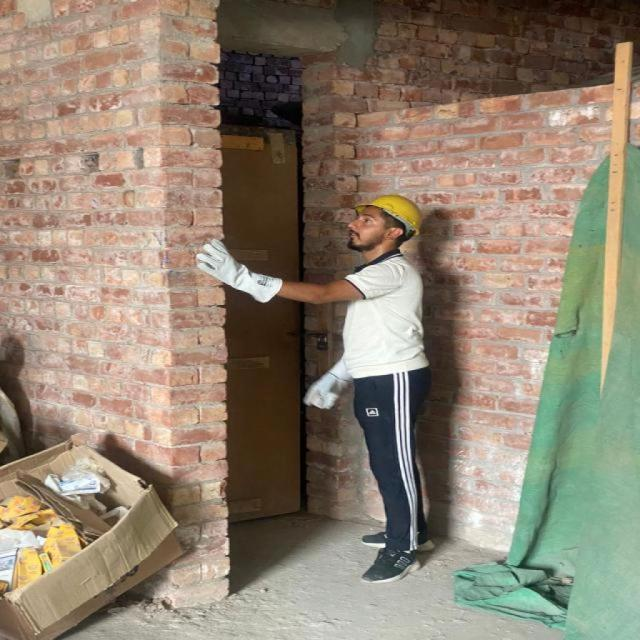Gloves-Detection: (188, 232, 291, 304), (303, 342, 349, 412)
